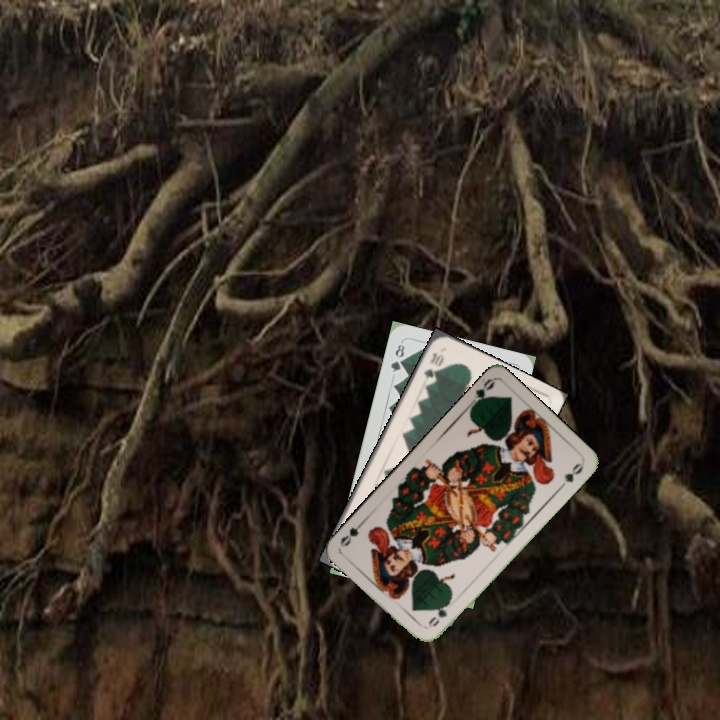G10: (419, 348, 446, 382)
G8: (386, 340, 407, 375)
GO: (464, 374, 497, 412), (424, 596, 453, 630)
